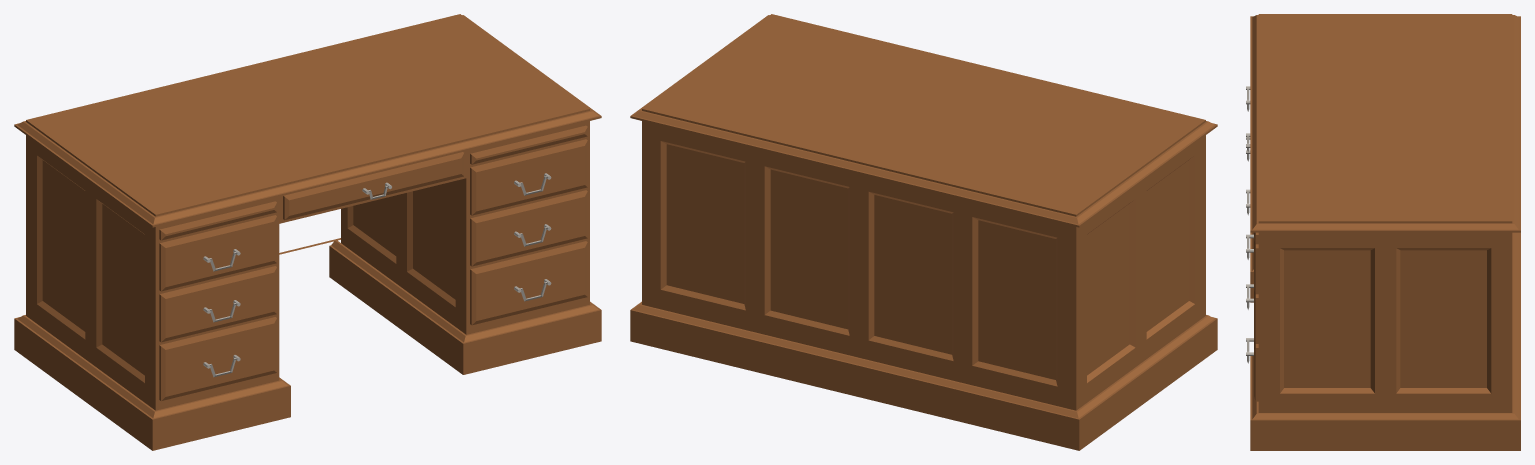
The model's file is desk-by-cmht-oculus-7zuvXWL0v7f.glb.
3 renders of one model, left to right at view 1: azimuth 30°, elevation 25°; view 2: azimuth 150°, elevation 25°; view 3: azimuth 270°, elevation 25°, orthographic. The views are drawn at different scales.
Parts seen in each view (by area): view 1: Node; view 2: Node; view 3: Node.
Part boxes in pixels (x1,y1,x2,y2): Node: [14, 14, 601, 450]; Node: [630, 14, 1217, 450]; Node: [1246, 14, 1520, 450].
Bounding box in the file's own units: 60 × 29.5 × 32.5.
